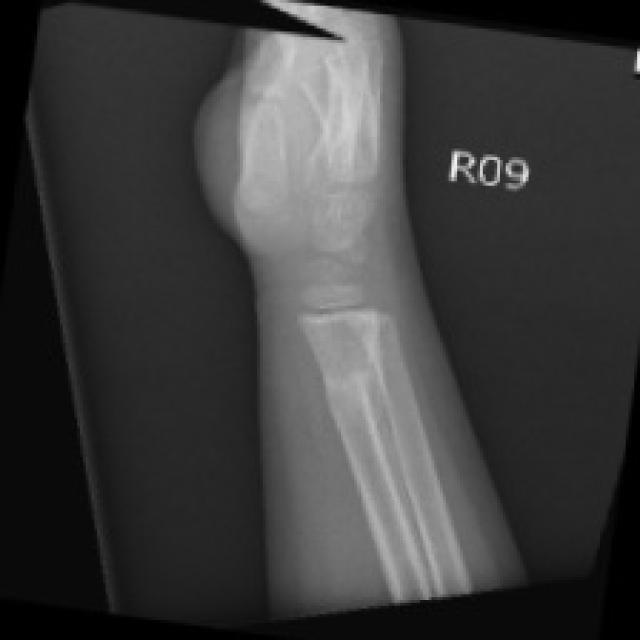fracture: (304, 351, 404, 434)
